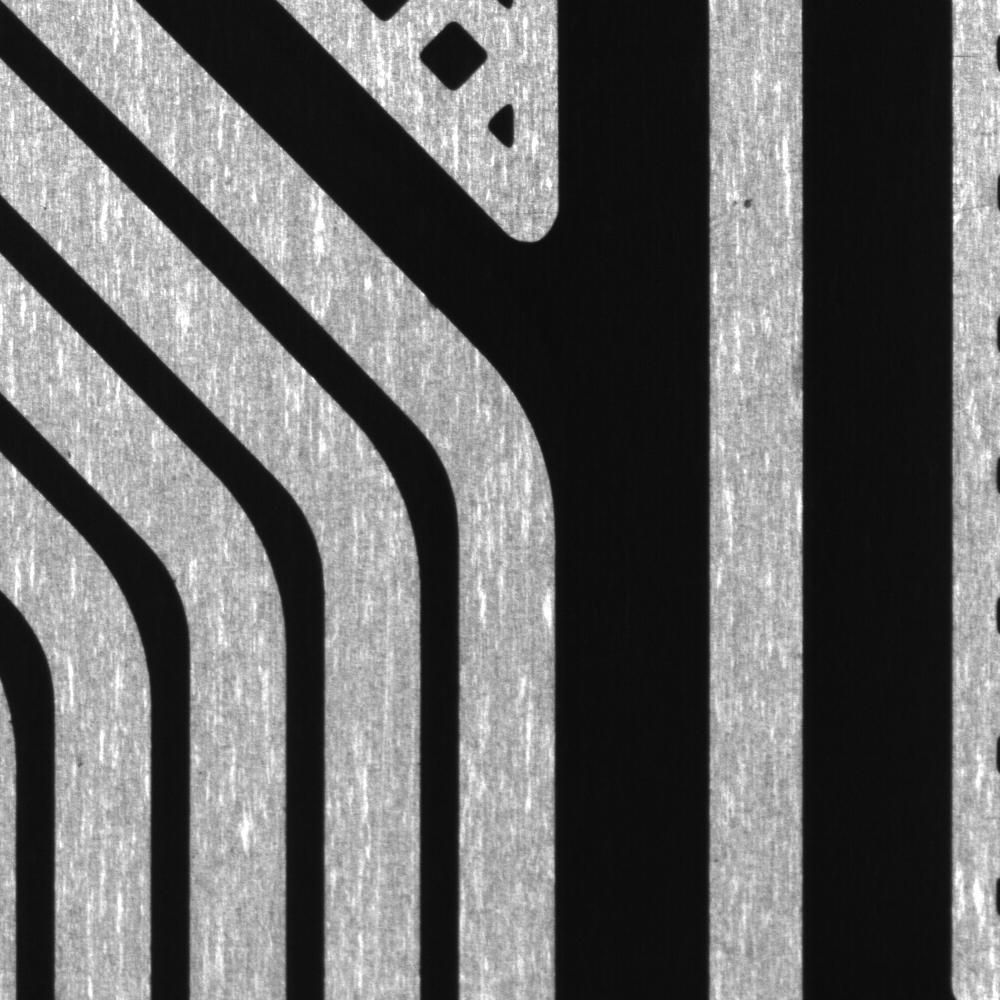Etching: (725, 185, 765, 222), (70, 749, 96, 776), (421, 290, 443, 317), (709, 852, 732, 872), (61, 443, 84, 462), (166, 569, 184, 591), (3, 711, 15, 732)
Pinhole: (39, 199, 54, 216)
Scar: (953, 195, 996, 223)
